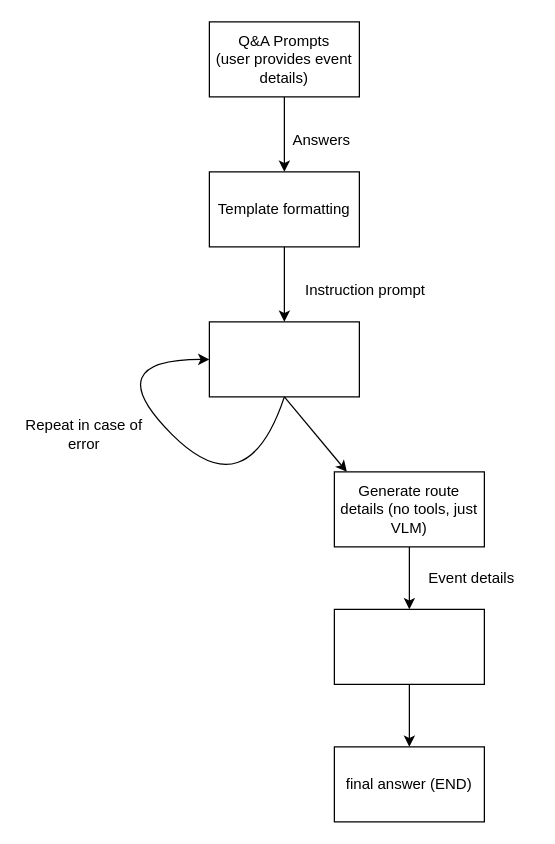
Some shapes in this 555 by 844 pixel diagram are drawn without their labels. The centre of each missing label's shape, as x and y in pixels:
"Add event with details to the calendar (tool)" belongs at [408,646].
"browse jakdojade (tool)" belongs at [283,359].
